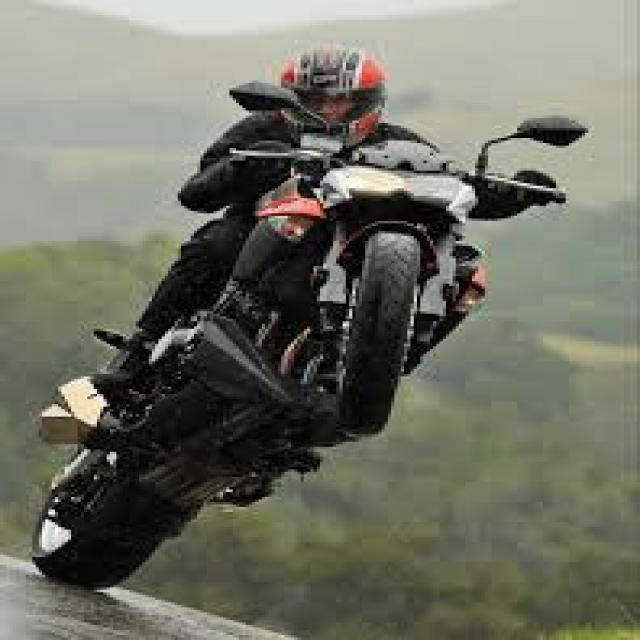Wheeling: (152, 40, 640, 423)
